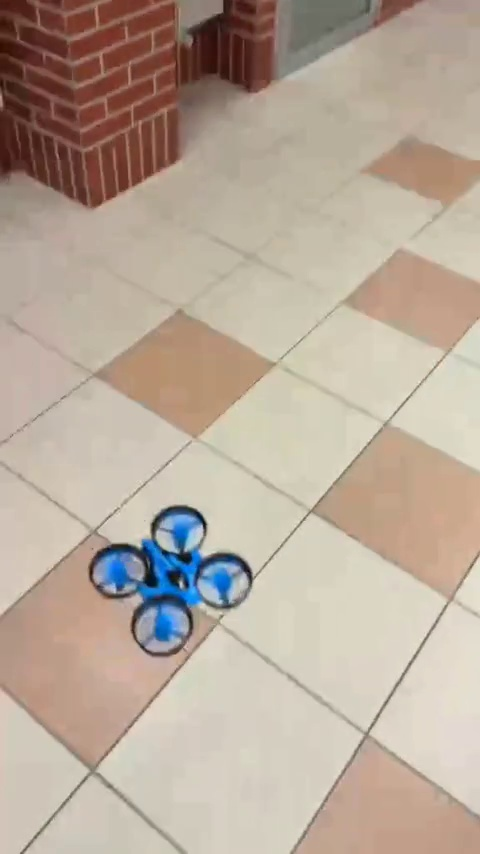drone: (87, 508, 260, 659)
